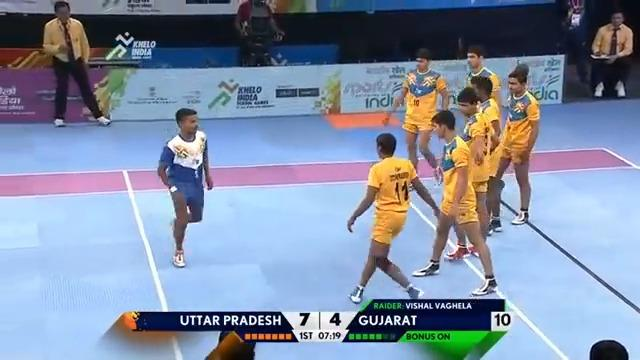Player: (411, 109, 498, 296), (346, 132, 441, 303), (381, 47, 450, 187), (485, 63, 541, 231), (454, 45, 502, 132)
Raider: (156, 107, 213, 267)
referee: (41, 0, 111, 127), (589, 10, 634, 98), (233, 0, 285, 66)
